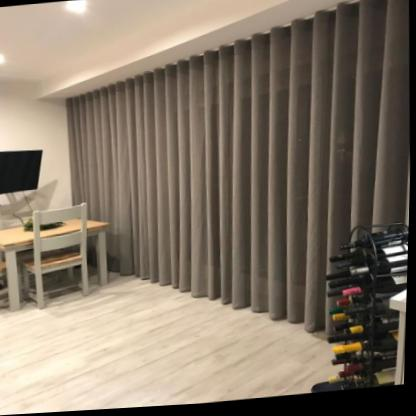Curtains: (61, 0, 409, 344)
Wooden floor: (0, 278, 345, 416)
